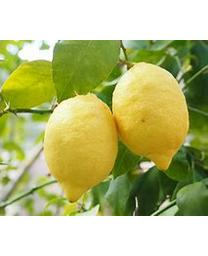lemon: (112, 64, 188, 170), (44, 96, 117, 202)
